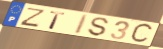3: (109, 21, 130, 40)
C: (129, 23, 154, 44)
I: (73, 14, 90, 36)
S: (88, 17, 110, 38)
T: (48, 10, 67, 30)
Z: (18, 7, 47, 28)
